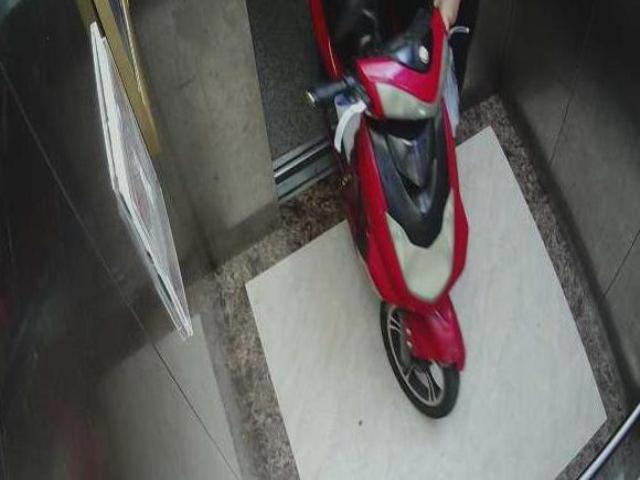emotor: (298, 1, 492, 418)
